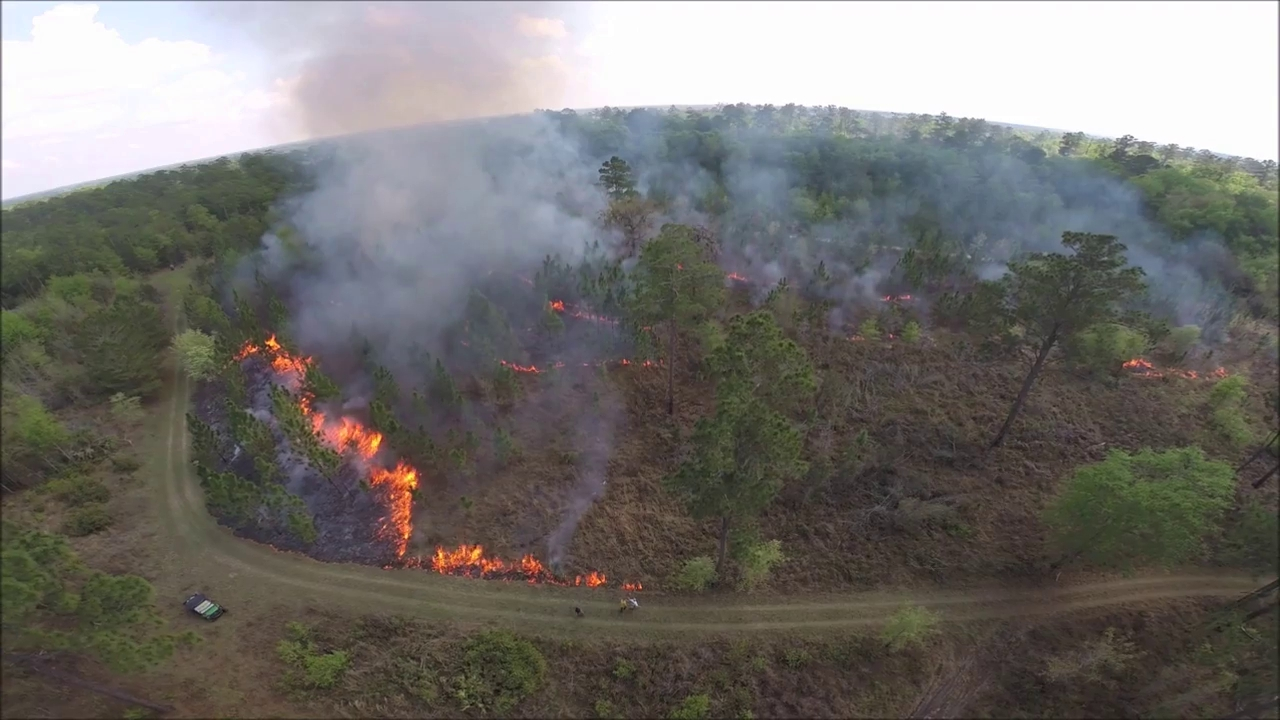forest_fire: (234, 335, 606, 585), (1121, 356, 1226, 379), (504, 361, 535, 371), (550, 301, 565, 312), (622, 582, 640, 589), (623, 360, 630, 363)
